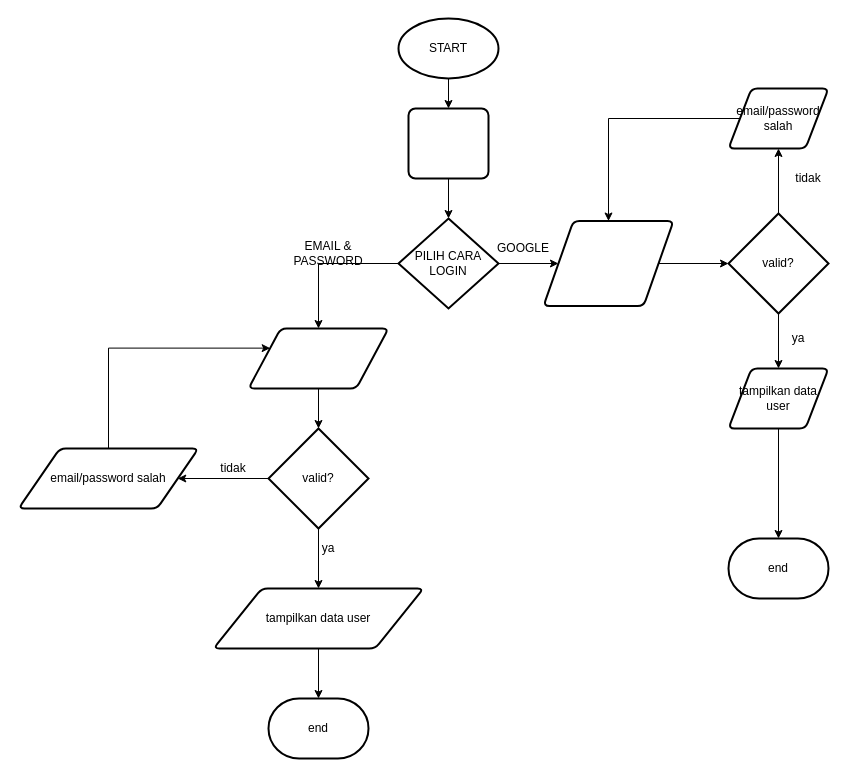
Some shapes in this 846 by 776 pixel diagram are drawn without their labels. The shapes that lost their labels are listed below. From the top down, each one's centre as x and y in pixels, then its label:
At point (448, 143): "LOGIN".
At point (608, 263): "input email dan password akun google".
At point (318, 358): "INPUT EMAIL & PASSWORD".
